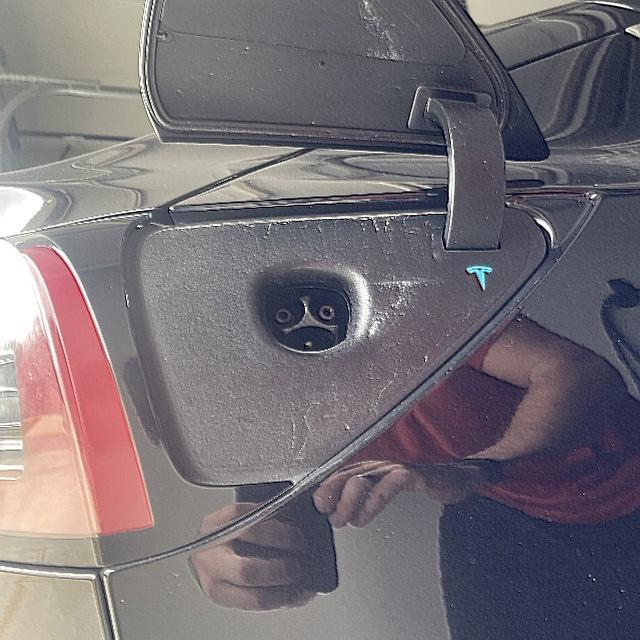Tesla Model-S-: (230, 252, 397, 372)
